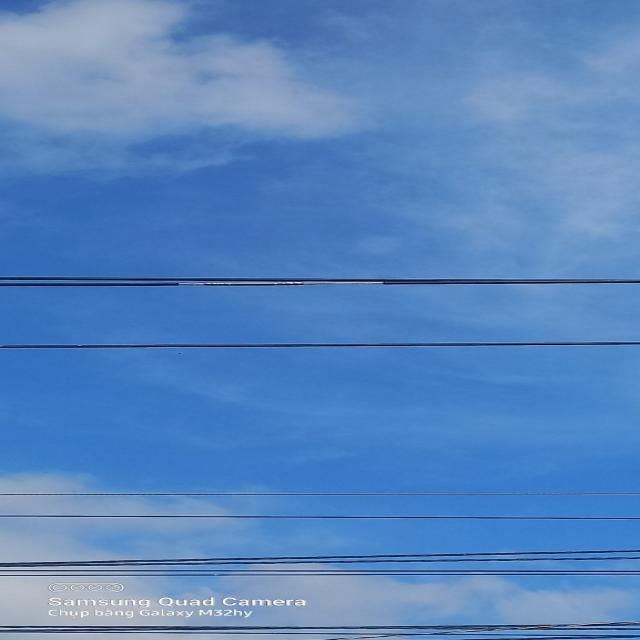wire: (0, 556, 640, 568), (0, 621, 640, 633), (1, 341, 640, 349), (0, 281, 640, 287), (1, 515, 640, 521), (0, 276, 640, 281), (0, 492, 640, 496), (1, 573, 640, 577), (109, 633, 640, 637)
